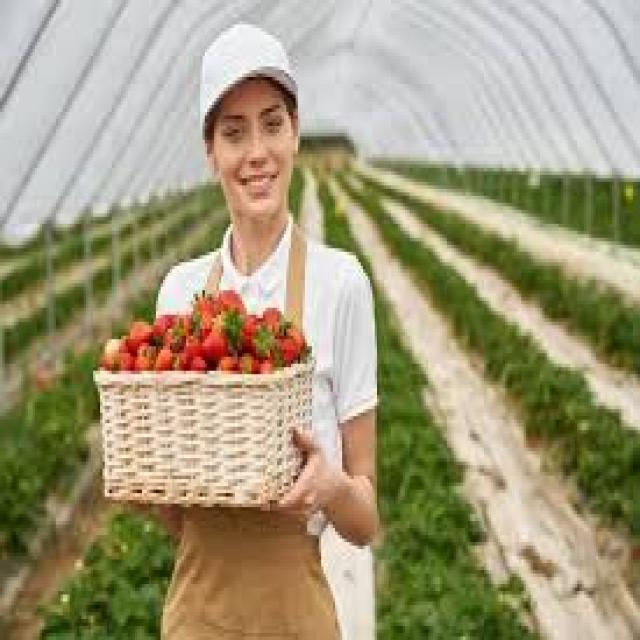basket: (95, 357, 322, 518)
